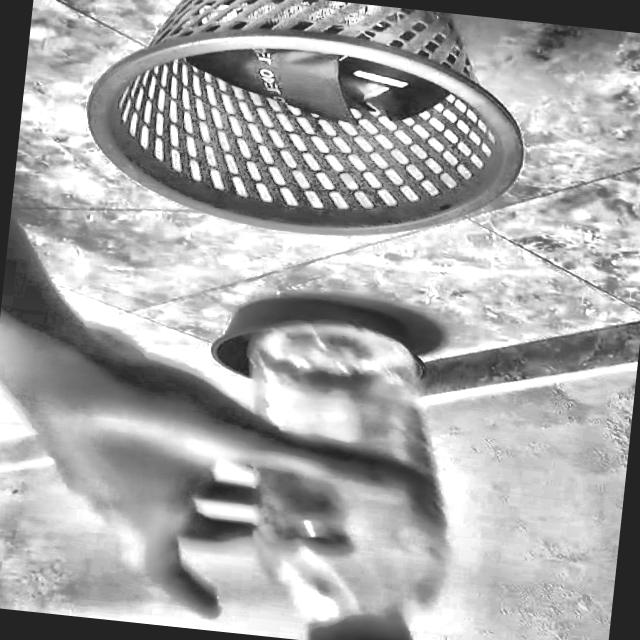Dustbin: (77, 0, 622, 264)
Empty: (88, 34, 548, 249)
Plastic-Bottle: (204, 296, 506, 640)
